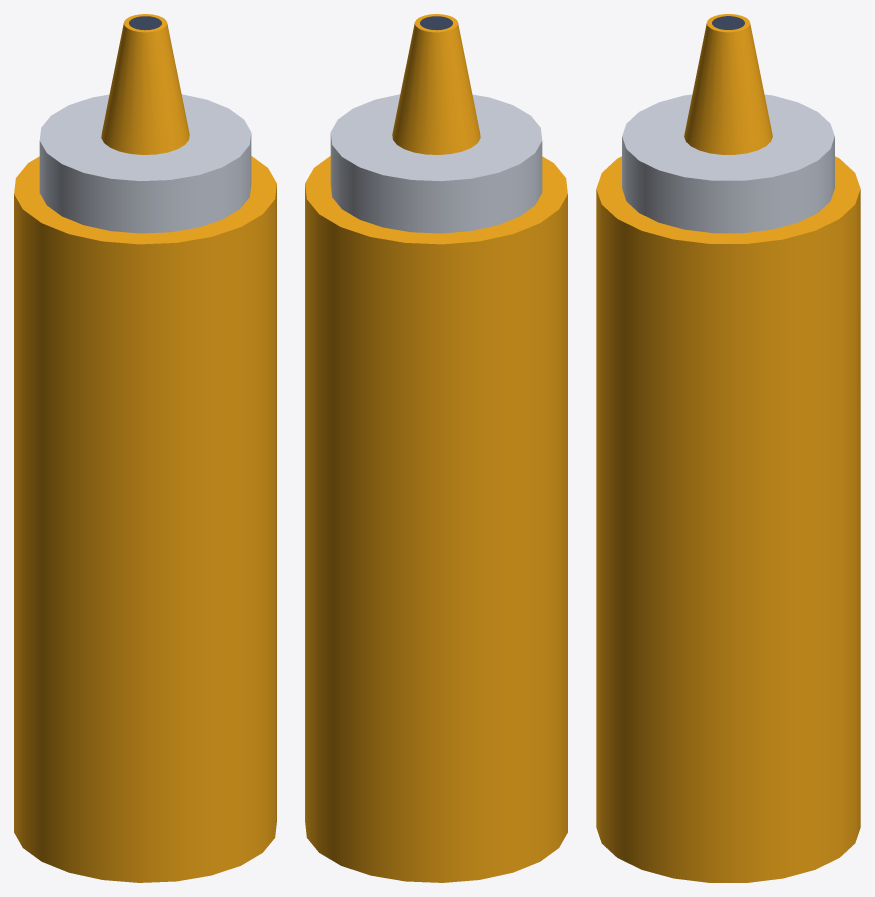
File: Mustard Bottle.fbx
3 renders of one model, left to right at view 1: azimuth 30°, elevation 25°; view 2: azimuth 150°, elevation 25°; view 3: azimuth 270°, elevation 25°, orthographic.
Visible parts, largest first — view 1: Mustard Bottle; view 2: Mustard Bottle; view 3: Mustard Bottle.
Part boxes in pixels (bbox=[...]): Mustard Bottle: bbox=[14, 14, 276, 882]; Mustard Bottle: bbox=[305, 14, 567, 882]; Mustard Bottle: bbox=[596, 14, 860, 882].
Size of the model in its own units: 0.2947 by 1 by 0.2977.
